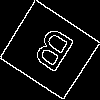B: (25, 25, 77, 82)
